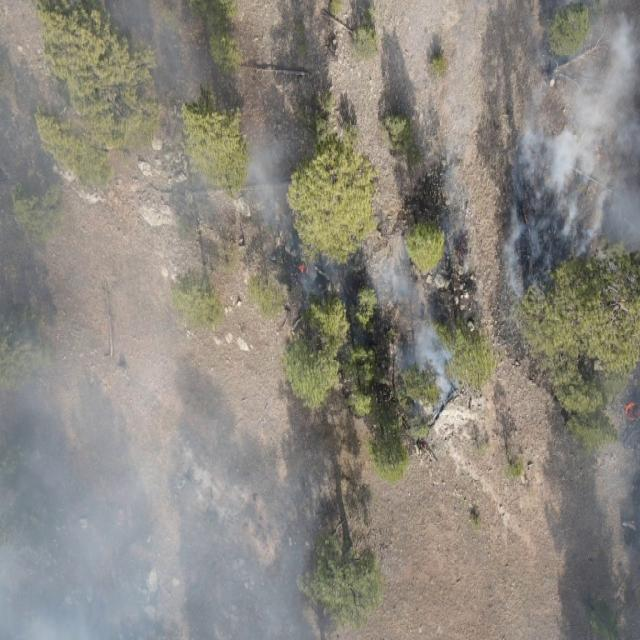fire: (622, 400, 640, 424), (298, 262, 312, 280), (453, 244, 468, 260)
smoke: (0, 0, 343, 640), (496, 0, 640, 302), (343, 218, 459, 404), (596, 387, 640, 640)
